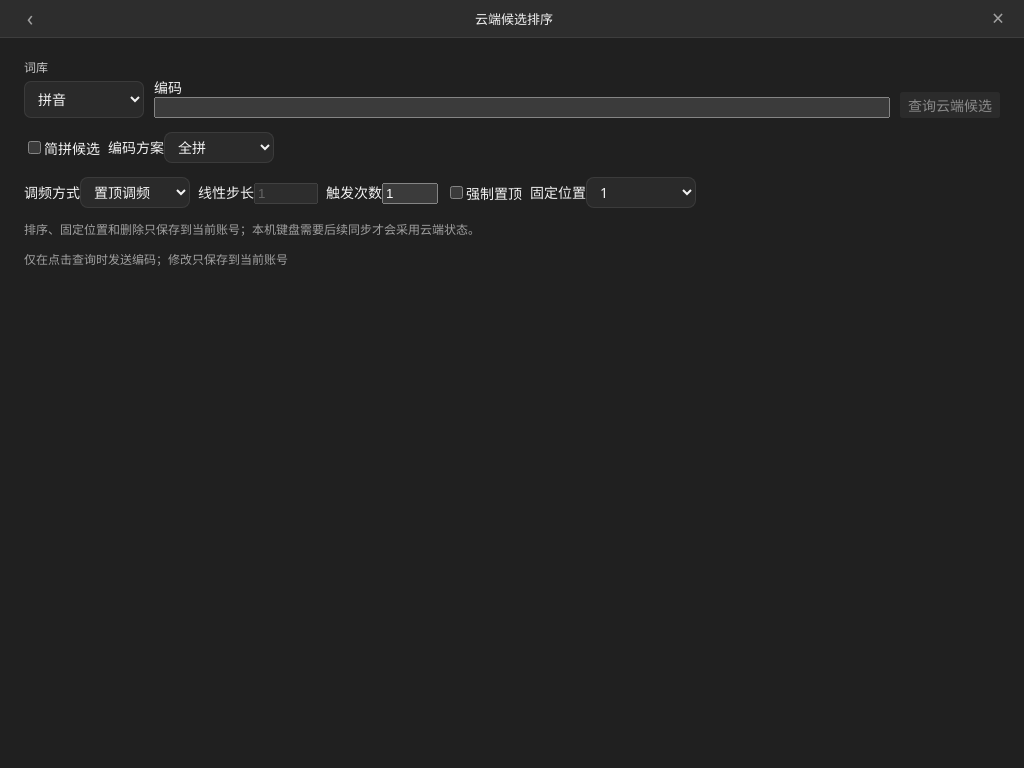
it: candidate lookup failure removes old candidates and fixed positions
Type "he" into the field named "云端候选编码". click: x=522, y=108
box: [154,97,890,118]
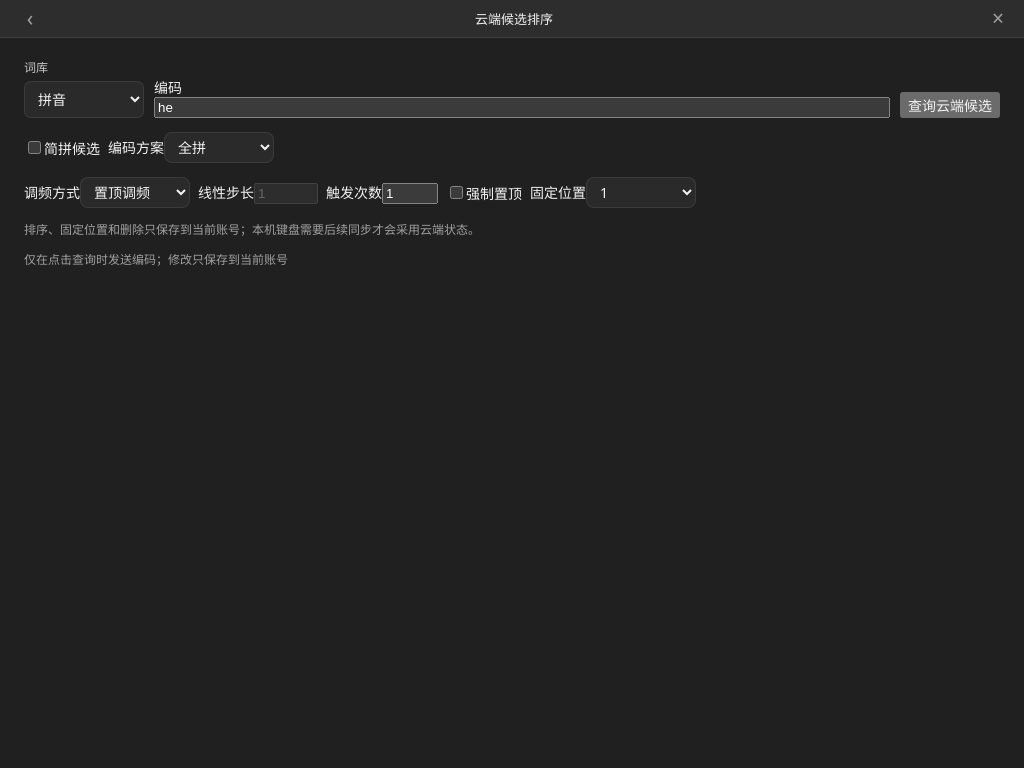
Click the button "查询云端候选". click: x=950, y=105
box: [900,92,1000,118]
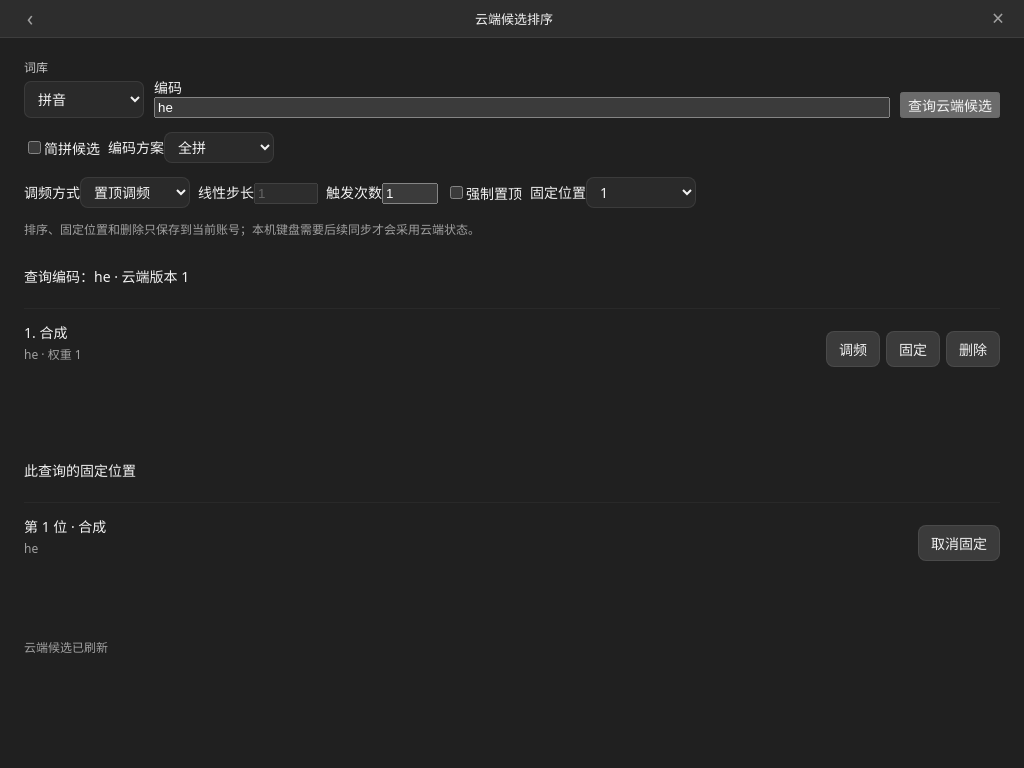
Expected: the button "取消固定" is shown, [918,525,1000,561]
Click the button "查询云端候选". click: x=950, y=105
box: [900,92,1000,118]
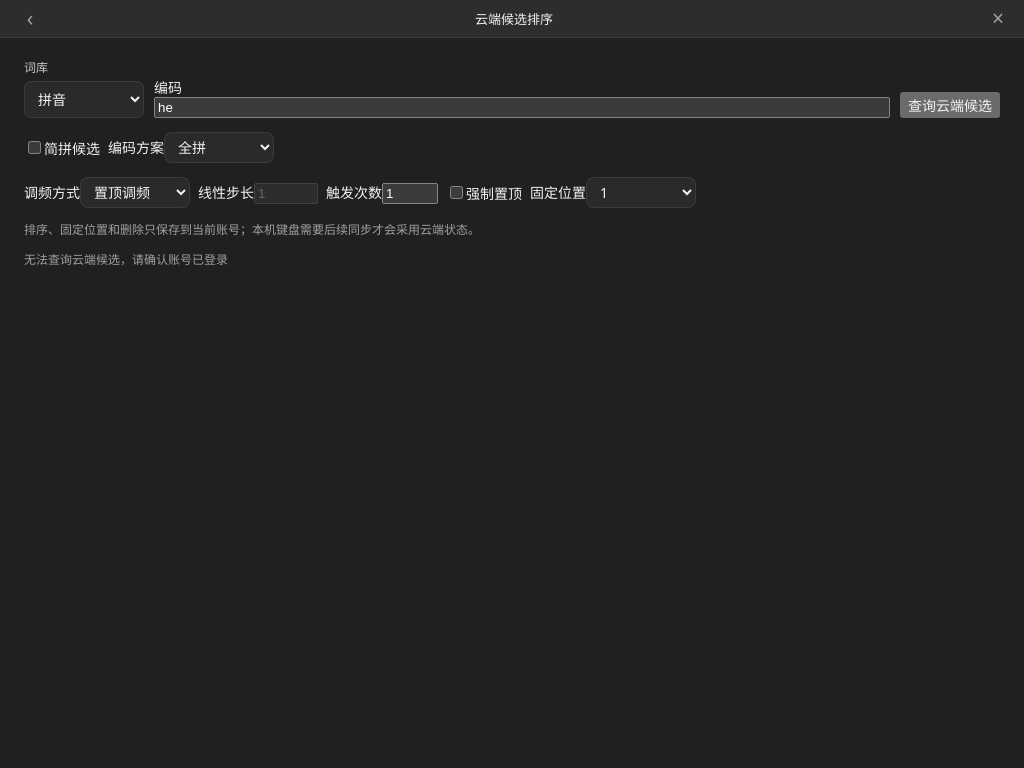
Expected: the button "取消固定" is gone
